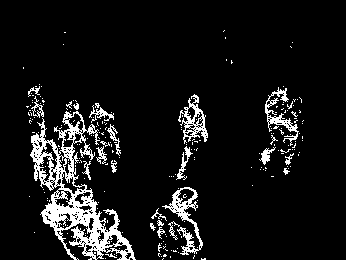person: (151, 186, 208, 259), (175, 92, 208, 179), (41, 190, 83, 257), (62, 101, 91, 176), (95, 207, 131, 260), (284, 98, 305, 174), (33, 134, 60, 191), (264, 88, 284, 161), (76, 189, 103, 238)
